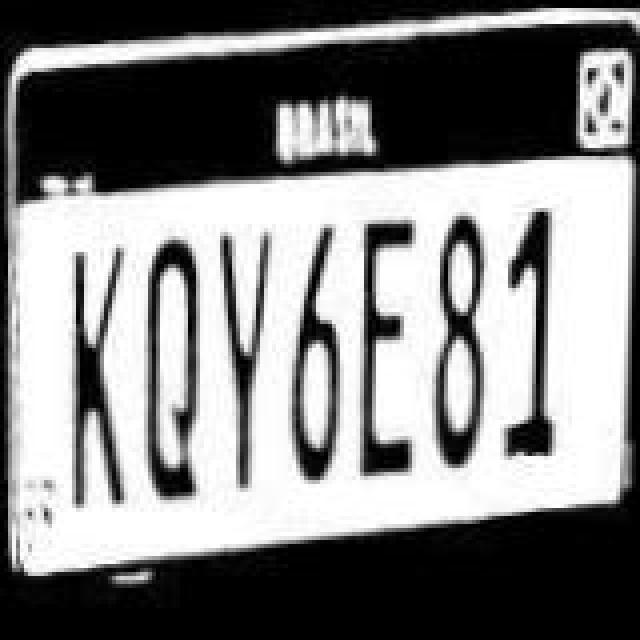1: (500, 208, 572, 472)
6: (292, 212, 356, 488)
8: (426, 208, 494, 472)
E: (356, 214, 428, 482)
K: (62, 244, 134, 516)
Q: (140, 234, 212, 518)
Y: (214, 210, 282, 494)
